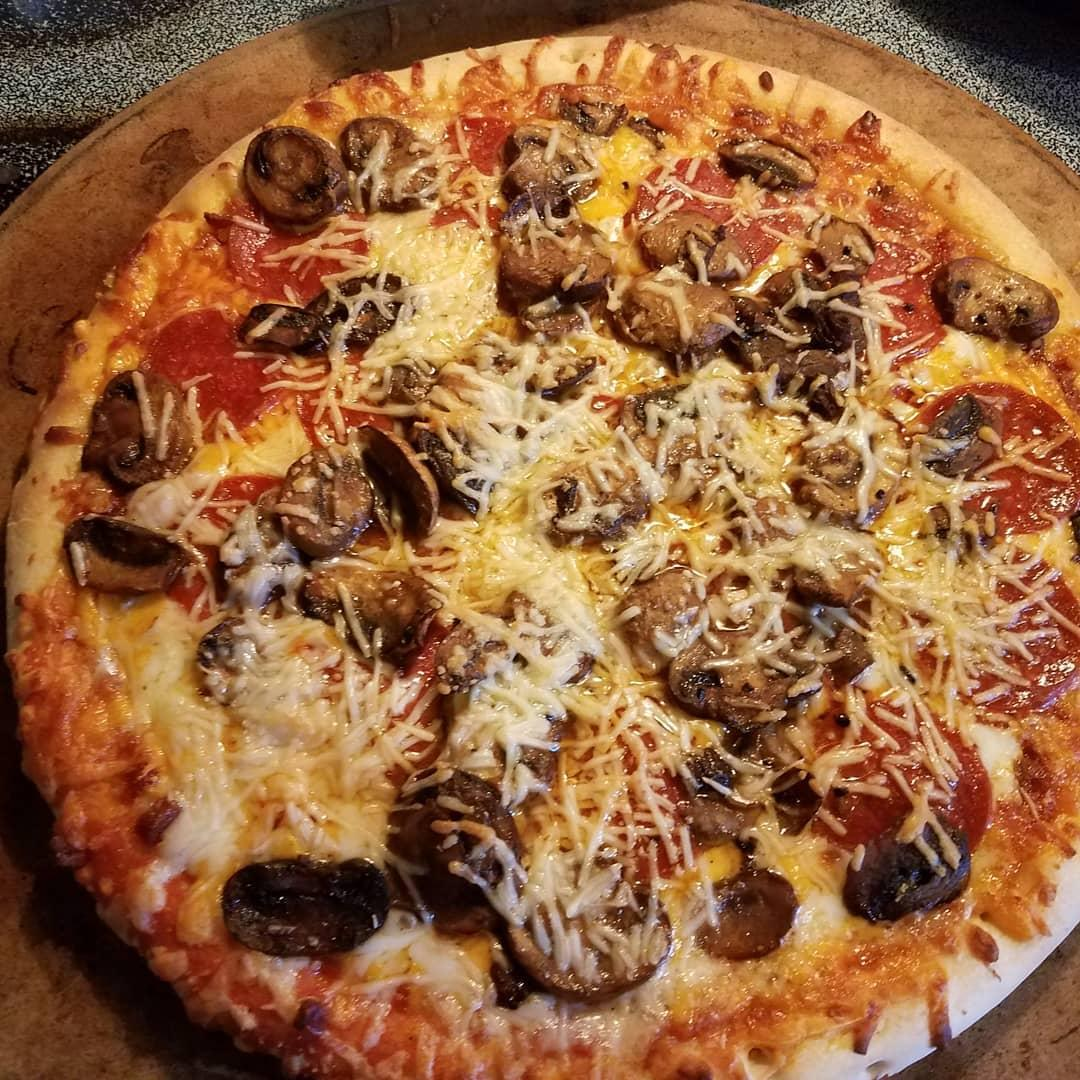Mushroom: (388, 769, 521, 914), (504, 885, 675, 996), (246, 128, 433, 216), (222, 857, 388, 955), (718, 297, 847, 415), (358, 424, 488, 533), (845, 811, 973, 920), (85, 368, 201, 485), (295, 567, 442, 659), (240, 275, 408, 349), (676, 753, 821, 836), (665, 646, 795, 723), (66, 517, 196, 594), (689, 873, 806, 958), (280, 449, 373, 555), (503, 211, 615, 299), (935, 260, 1058, 339), (616, 567, 709, 668), (619, 276, 731, 352), (508, 121, 600, 207), (761, 268, 855, 352), (643, 208, 751, 280), (554, 476, 651, 536), (924, 395, 993, 473), (718, 138, 820, 190), (798, 449, 861, 511), (791, 553, 852, 606), (811, 220, 872, 271)
Pizza: (7, 33, 1080, 1080)
